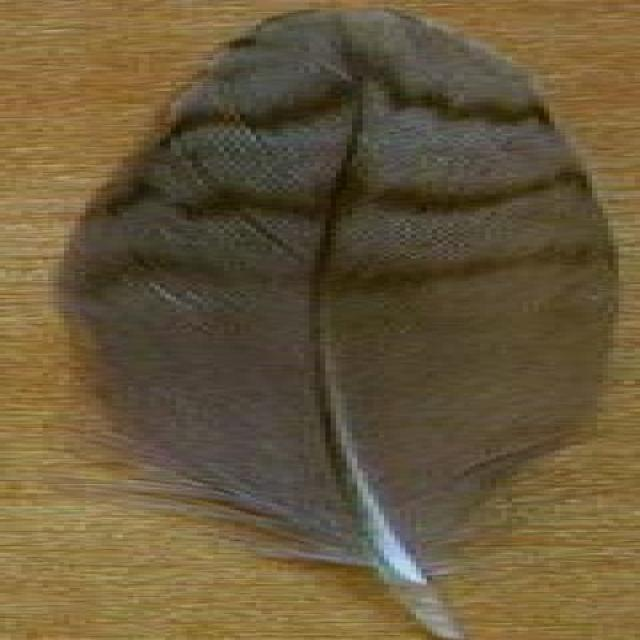feather: (71, 3, 610, 640)
